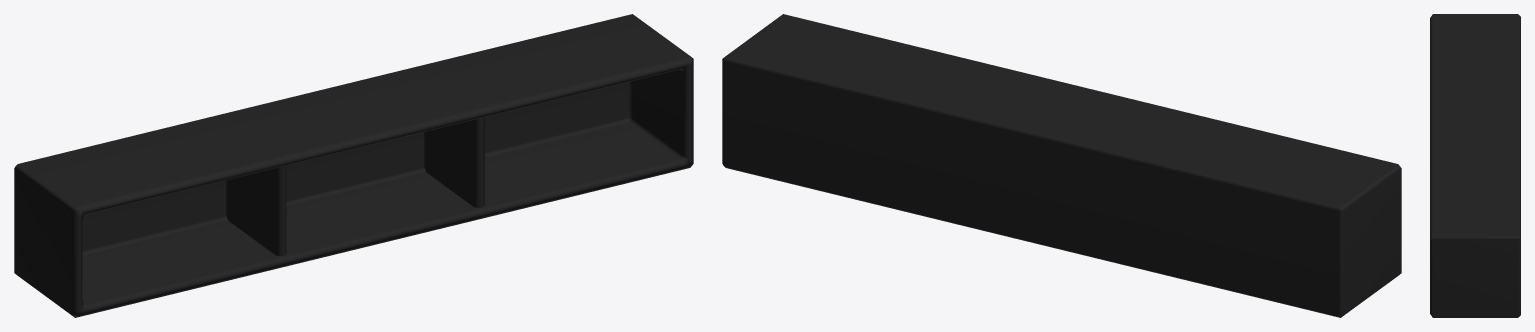
The model's file is shelf_014.fbx.
3 renders of one model, left to right at view 1: azimuth 30°, elevation 25°; view 2: azimuth 150°, elevation 25°; view 3: azimuth 270°, elevation 25°, orthographic. The views are drawn at different scales.
Visible parts, largest first — view 1: shelf_014; view 2: shelf_014; view 3: shelf_014.
Boxes of the visible parts, x1,y1,x2,y2 form: shelf_014: (14,14,693,317); shelf_014: (722,14,1401,317); shelf_014: (1430,14,1520,317).
Bounding box in the file's own units: 237 × 40.68 × 40.68.
